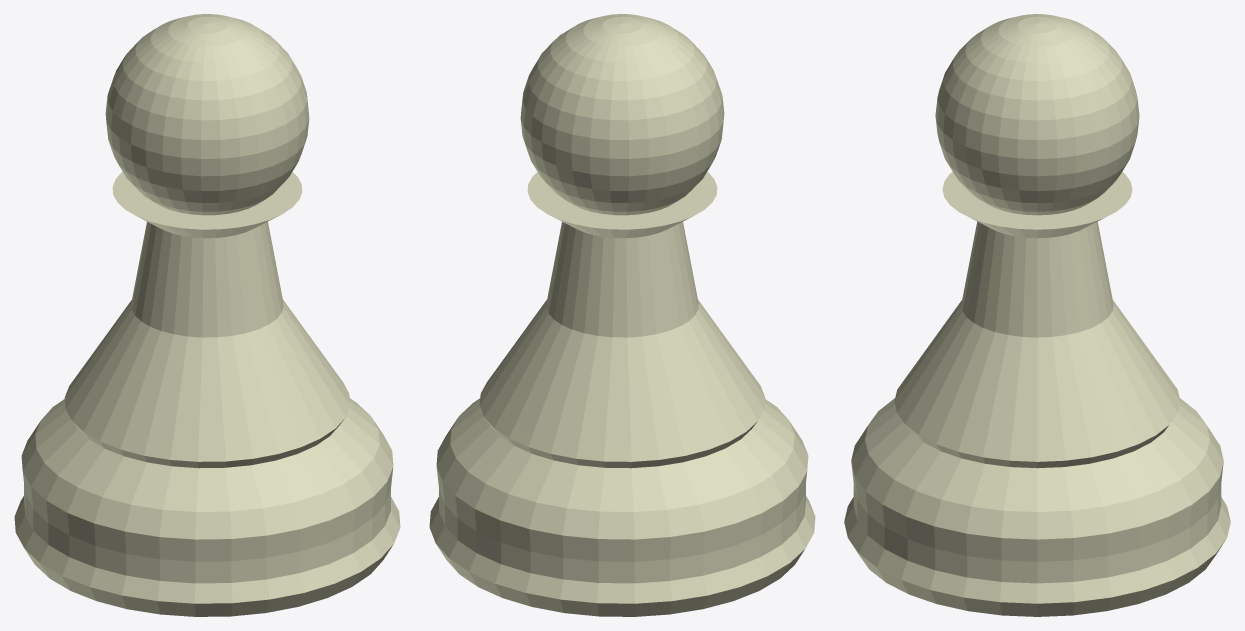
Rendered from pawn.gltf.
3 views of the same model, side by side, from view 1: azimuth 30°, elevation 25°; view 2: azimuth 150°, elevation 25°; view 3: azimuth 270°, elevation 25° (orthographic).
Parts seen in each view (by area): view 1: Circle; view 2: Circle; view 3: Circle.
Boxes of the visible parts, <box> form: Circle: <box>14,14,400,616</box>; Circle: <box>429,14,815,616</box>; Circle: <box>844,14,1230,616</box>.
Bounding box in the file's own units: 1.36 × 2.01 × 1.36.
